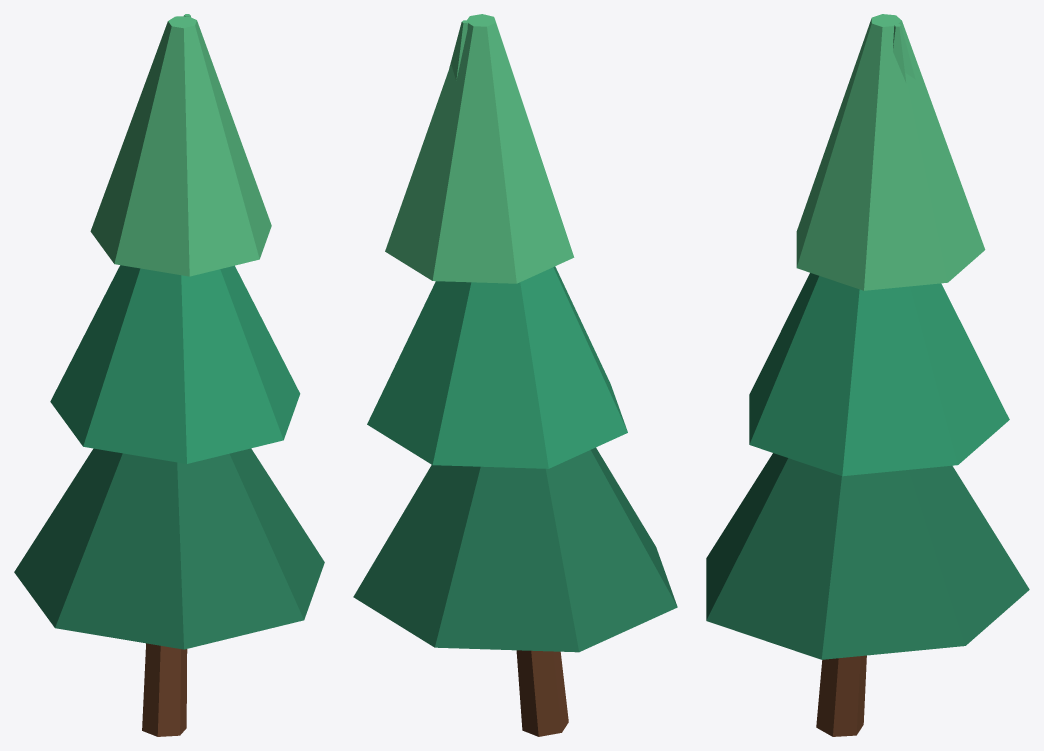
Rendered from sapling_a.glb.
3 views of the same model, side by side, from view 1: azimuth 30°, elevation 25°; view 2: azimuth 150°, elevation 25°; view 3: azimuth 270°, elevation 25° (orthographic). The views are drawn at different scales.
Parts seen in each view (by area): view 1: SaplingA; view 2: SaplingA; view 3: SaplingA.
Part boxes in pixels (bbox=[...]): SaplingA: bbox=[14, 14, 324, 736]; SaplingA: bbox=[353, 14, 677, 736]; SaplingA: bbox=[706, 14, 1029, 736].
Bounding box in the file's own units: 0.6123 × 1.48 × 0.5969.
